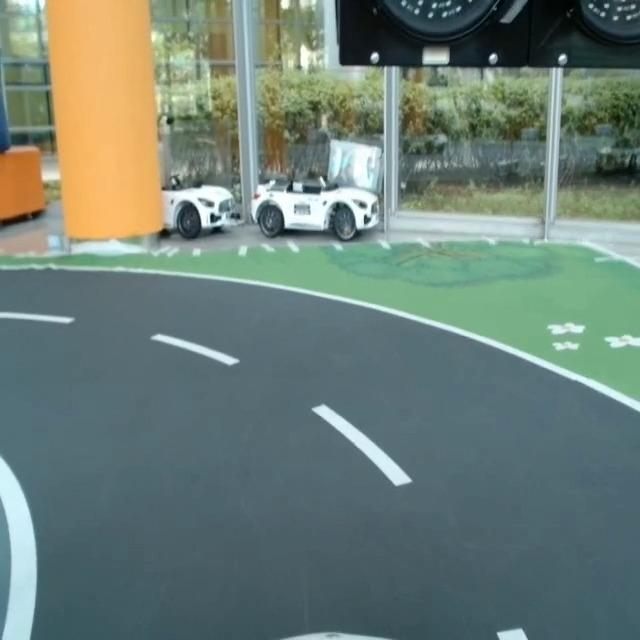traffic-light: (324, 0, 640, 75)
